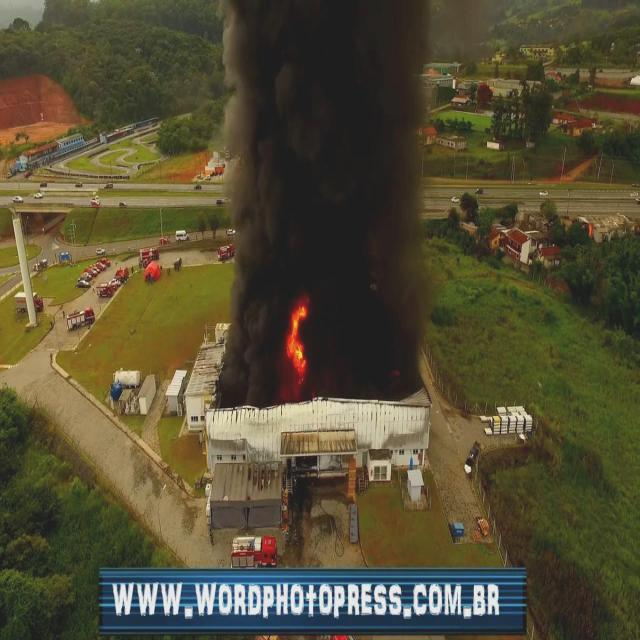Fire: (286, 293, 312, 382)
